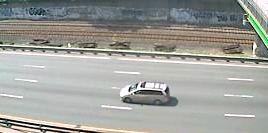car: (118, 79, 174, 107)
